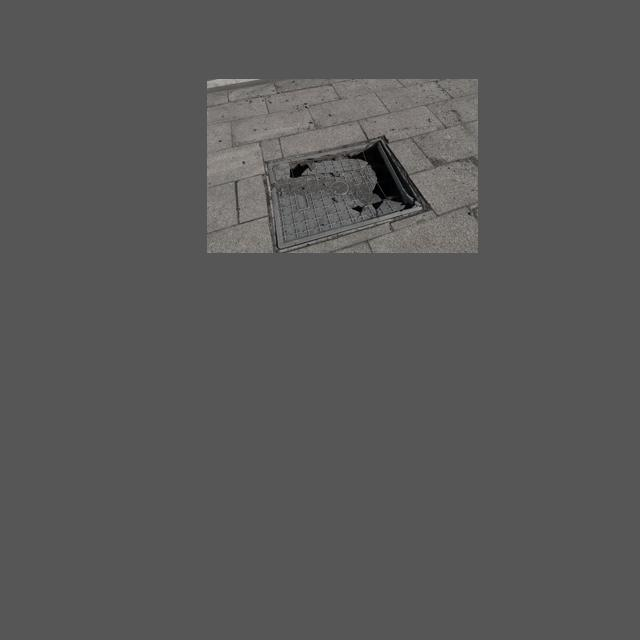broke: (267, 132, 433, 252)
